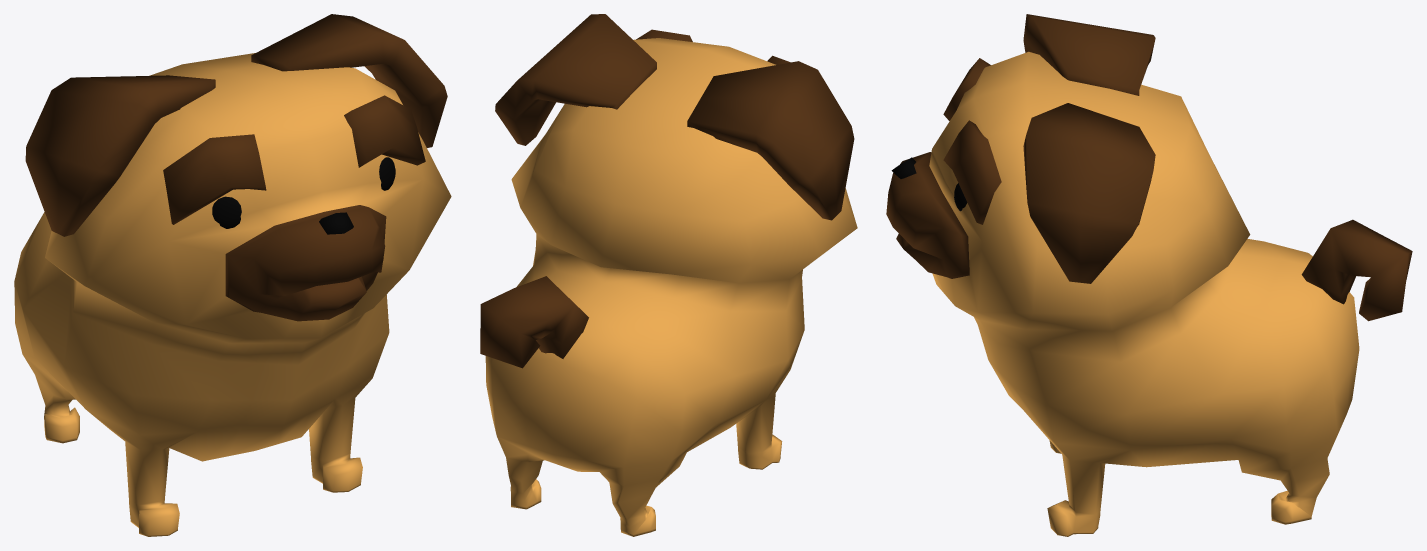
File: Pug.glb
3 views of the same model, side by side, from view 1: azimuth 30°, elevation 25°; view 2: azimuth 150°, elevation 25°; view 3: azimuth 270°, elevation 25° (orthographic). The views are drawn at different scales.
Parts seen in each view (by area): view 1: Pug; view 2: Pug; view 3: Pug.
Part boxes in pixels (box(x1,y1,x2,y2)): Pug: box(14, 14, 451, 536); Pug: box(480, 14, 857, 536); Pug: box(886, 14, 1412, 536).
Bounding box in the file's own units: 0.7363 × 0.8558 × 0.9705.
